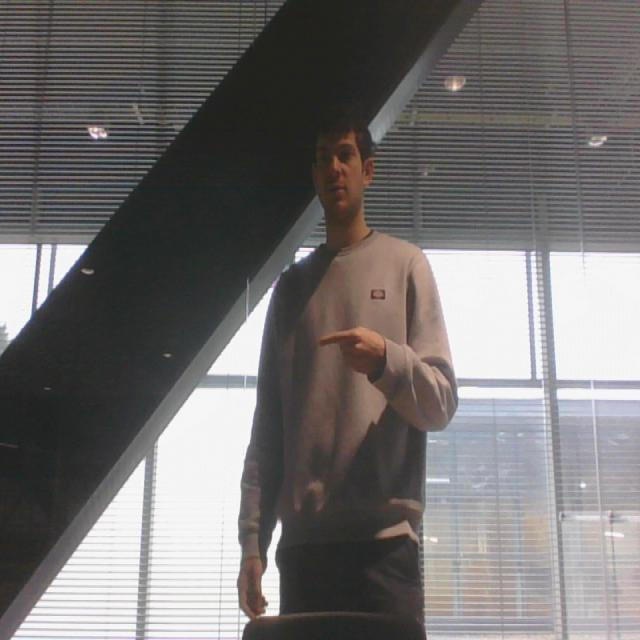left: (312, 322, 391, 381)
